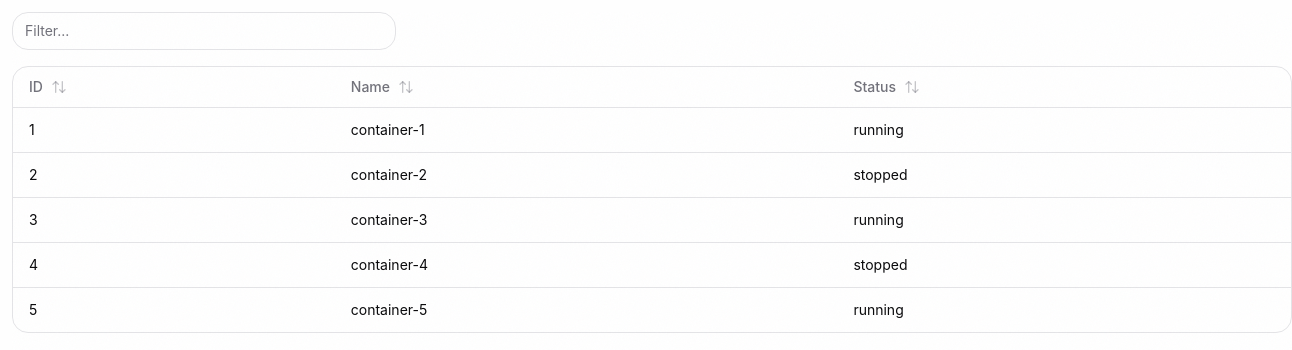
Test: DataTable › pagination mode (small datasets) › filters data with search
Type "container-1" into the field with placeholder "Filter...". click: (204, 31)
box: 12,12 -> 396,50
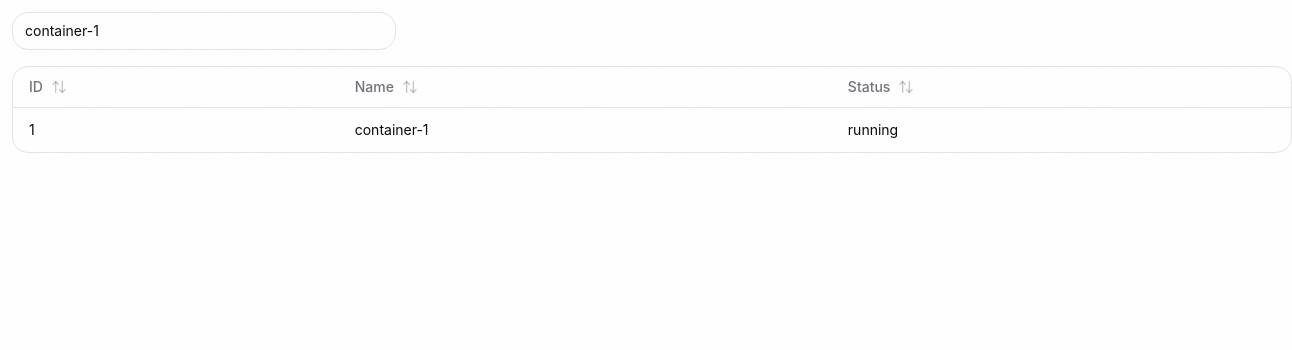
Expected: the text "container-1" is shown, 339,107 -> 832,152
Now the text "container-2" is gone
